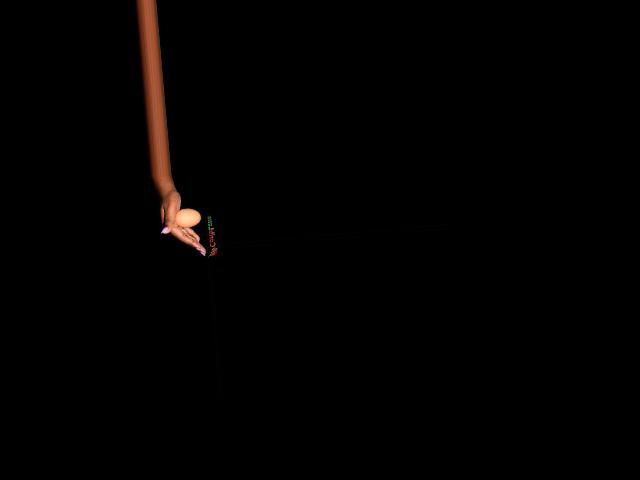egg: (174, 206, 201, 228)
